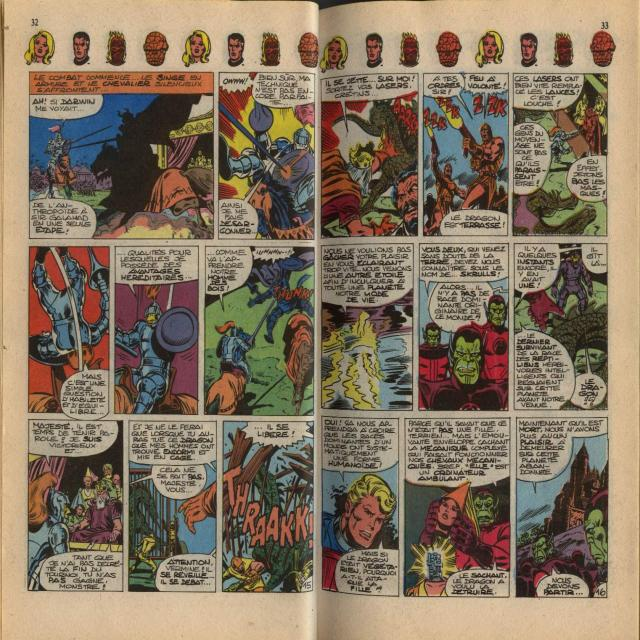comic_panel: (28, 70, 216, 242), (403, 416, 512, 600), (203, 244, 317, 417), (515, 416, 611, 602), (27, 416, 126, 596), (217, 70, 317, 244), (319, 70, 419, 241), (220, 418, 316, 596), (510, 68, 609, 239), (513, 240, 610, 413), (320, 240, 415, 412), (417, 240, 510, 414), (127, 419, 218, 595), (28, 243, 112, 424), (320, 414, 401, 599), (114, 244, 200, 417), (422, 70, 510, 237)
